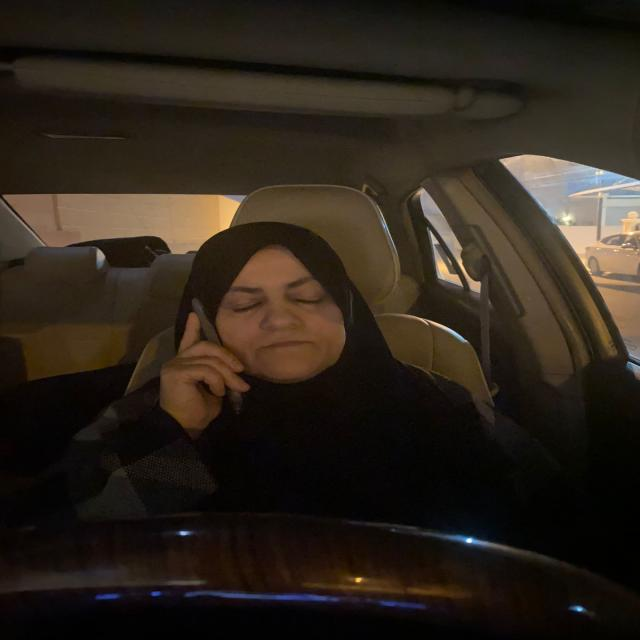phone: (182, 294, 242, 416)
